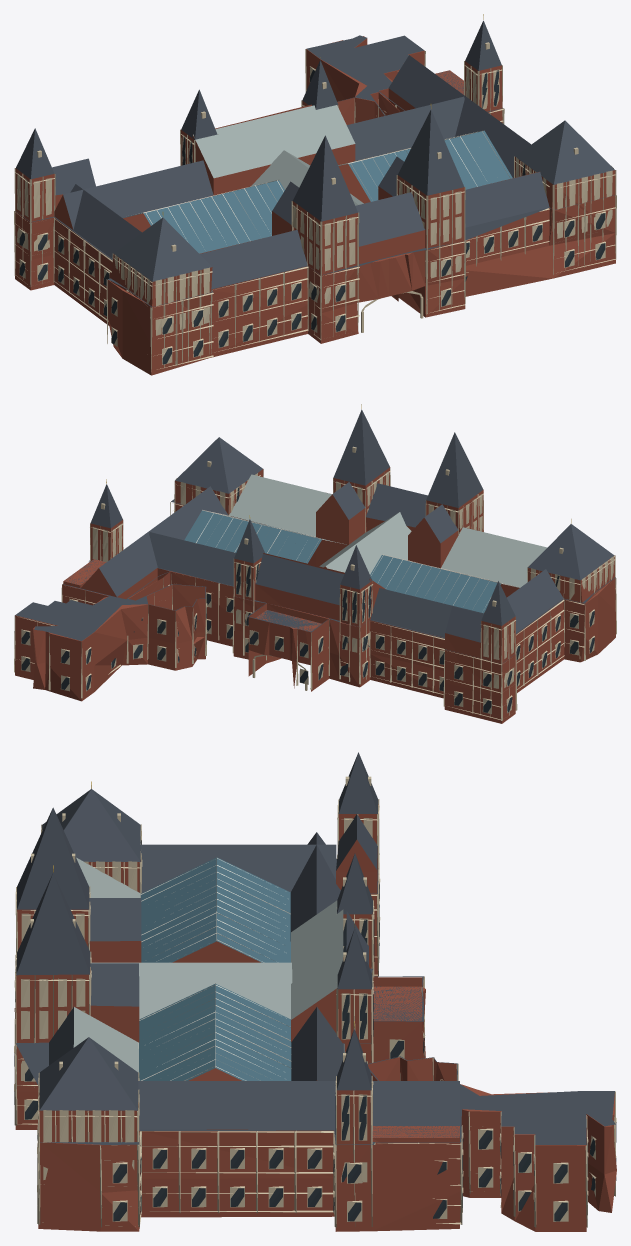
The model's file is rijksmuseum.lod1.glb.
The picture shows the model from 3 angles, top to bottom: view 1: azimuth 30°, elevation 25°; view 2: azimuth 150°, elevation 25°; view 3: azimuth 270°, elevation 25°; orthographic projection. The views are drawn at different scales.
Parts seen in each view (by area): view 1: rijksmuseum; view 2: rijksmuseum; view 3: rijksmuseum.
Boxes of the visible parts, box(x1,y1,x2,y2) form: rijksmuseum: box(14, 14, 616, 375); rijksmuseum: box(14, 404, 616, 723); rijksmuseum: box(14, 752, 616, 1231).
Bounding box in the file's own units: 139 × 55.6 × 120.
